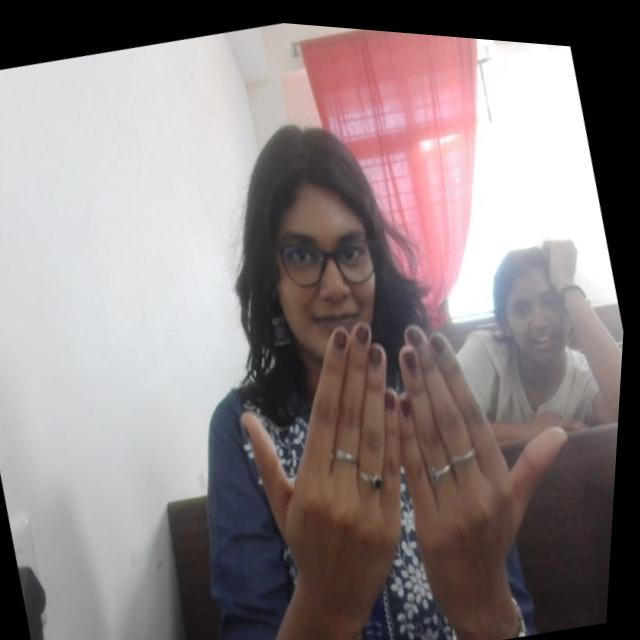thankyou: (211, 256, 615, 640)
